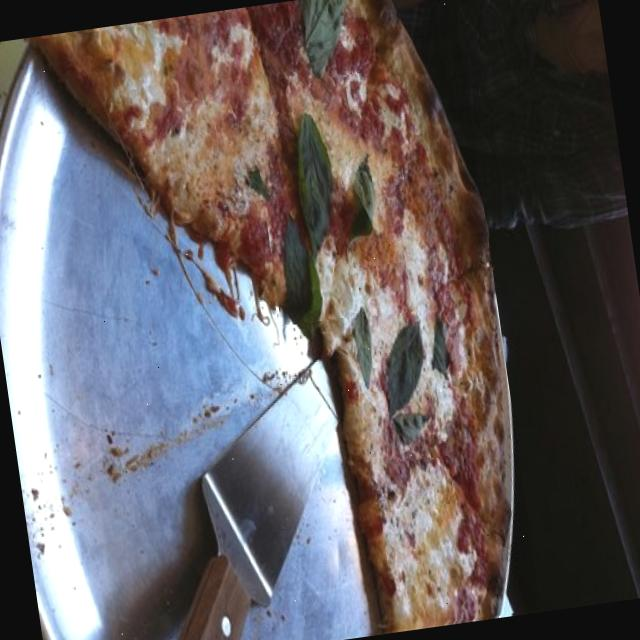basil: (252, 108, 360, 326), (326, 155, 402, 271), (374, 311, 441, 428), (286, 0, 366, 82), (388, 398, 452, 463), (347, 300, 385, 395), (422, 311, 461, 390)
pizza: (35, 0, 508, 630)
